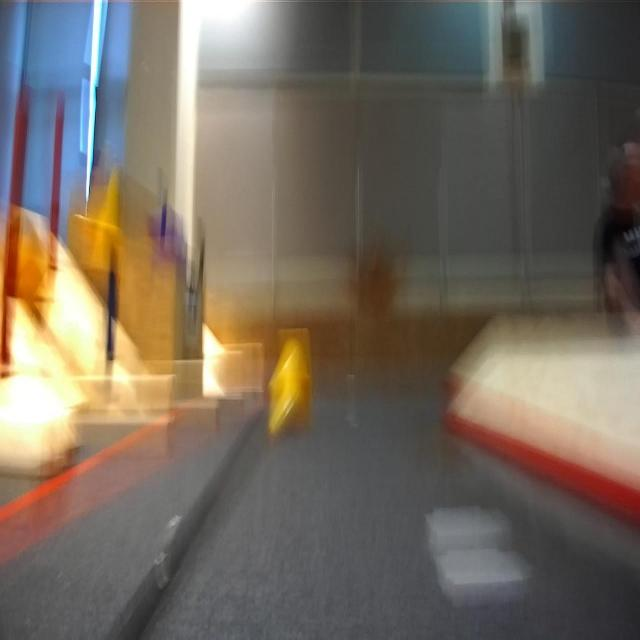frc_cone: (268, 331, 318, 440), (91, 159, 135, 262)
frc_cube: (155, 213, 192, 258)
